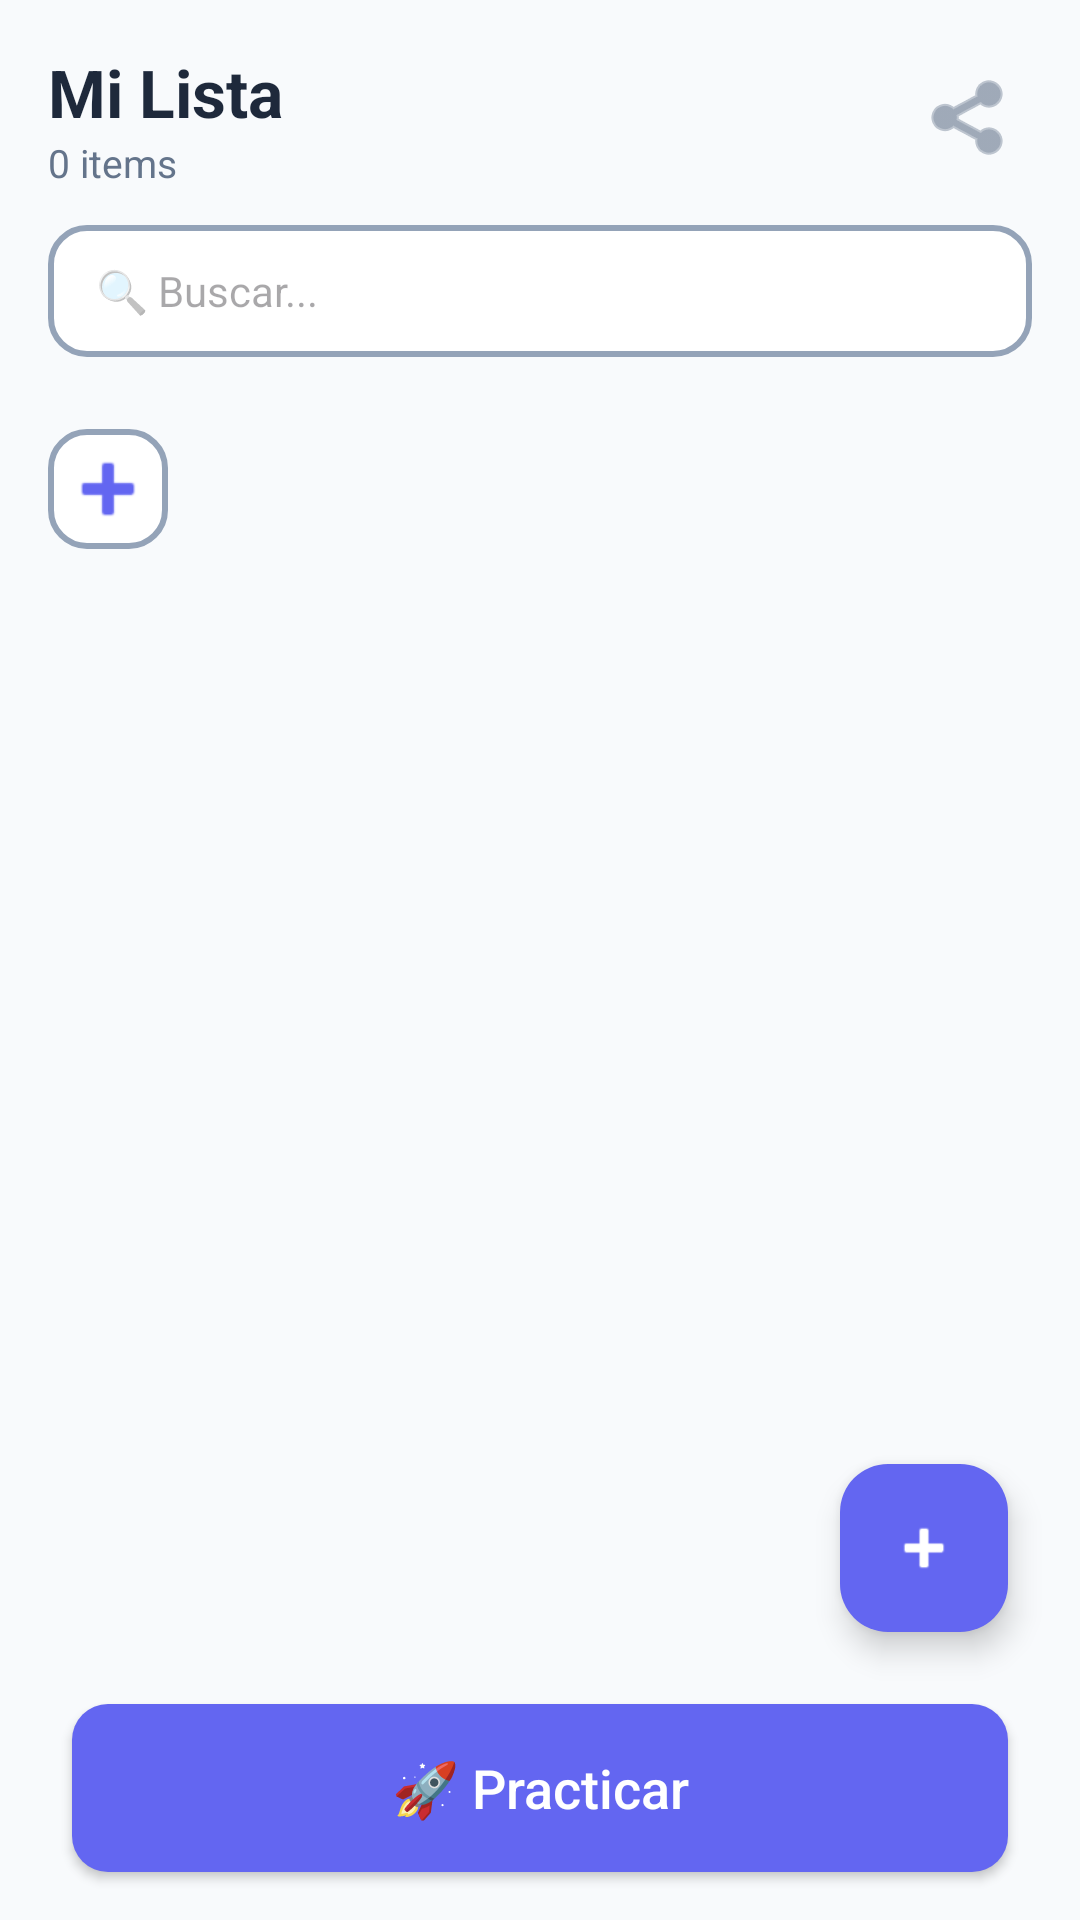

Icon bounding boxes for this 1080 x 1920 phone screenshot, format (x1=x1, y1=y1, x2=x2, y2=y2):
Agregar columna: (x1=48, y1=429, x2=168, y2=549)
Agregar item: (x1=840, y1=1464, x2=1008, y2=1632)
Compartir: (x1=931, y1=80, x2=1003, y2=155)
